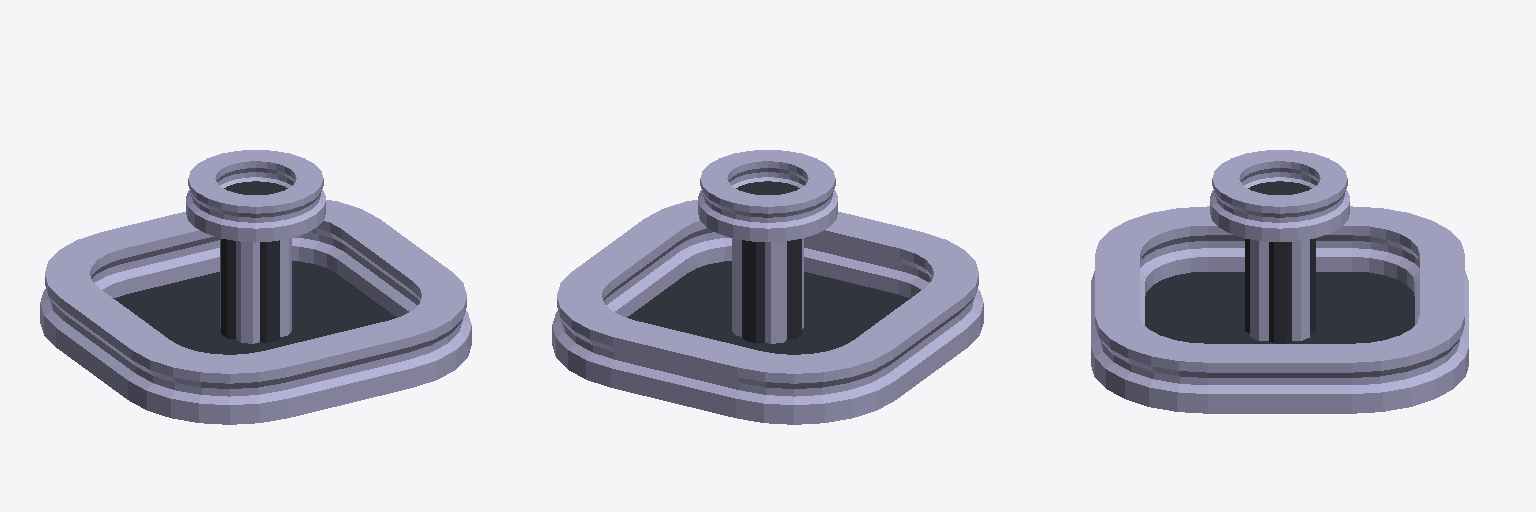
Rendered from fountain.obj.
3 views of the same model, side by side, from view 1: azimuth 30°, elevation 25°; view 2: azimuth 150°, elevation 25°; view 3: azimuth 270°, elevation 25° (orthographic).
Visible parts, largest first — view 1: wall_half_corner_round, wall_half, roof_flatCenter, arch_horizontal; view 2: wall_half_corner_round, wall_half, roof_flatCenter, arch_horizontal; view 3: wall_half_corner_round, wall_half, roof_flatCenter, arch_horizontal.
Part boxes in pixels (x1,y1,x2,y2): wall_half_corner_round: (40, 150, 471, 424); wall_half: (56, 212, 451, 417); roof_flatCenter: (113, 181, 396, 354); arch_horizontal: (220, 238, 291, 343); wall_half_corner_round: (552, 150, 983, 424); wall_half: (572, 212, 967, 417); roof_flatCenter: (627, 181, 910, 354); arch_horizontal: (732, 238, 803, 343); wall_half_corner_round: (1091, 150, 1468, 413); wall_half: (1091, 206, 1468, 413); roof_flatCenter: (1145, 181, 1414, 343); arch_horizontal: (1245, 238, 1315, 343).
Size of the model in its own units: 2.1 by 0.95 by 2.1.